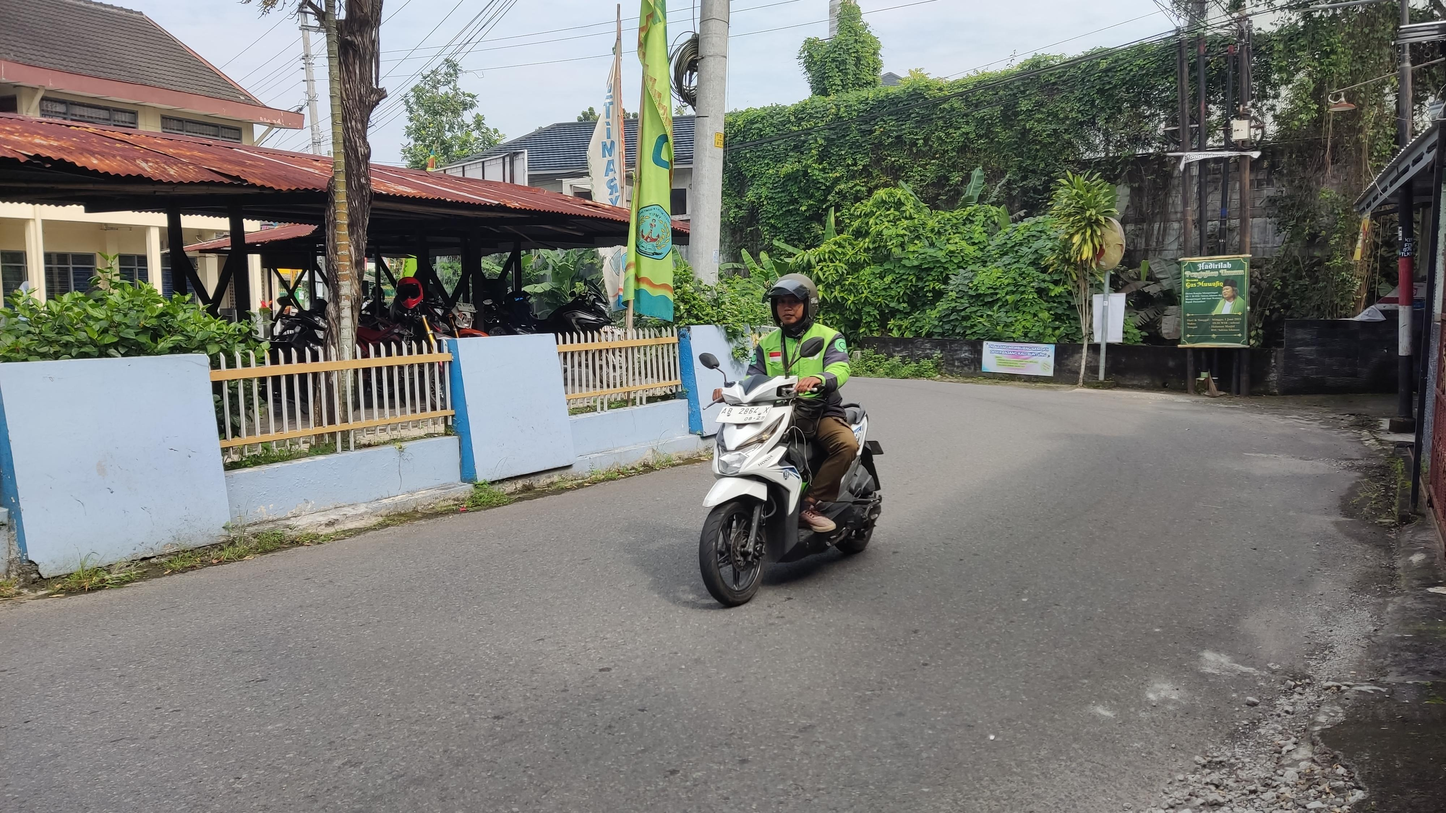helm: (764, 266, 830, 340)
riding: (692, 261, 897, 615)
